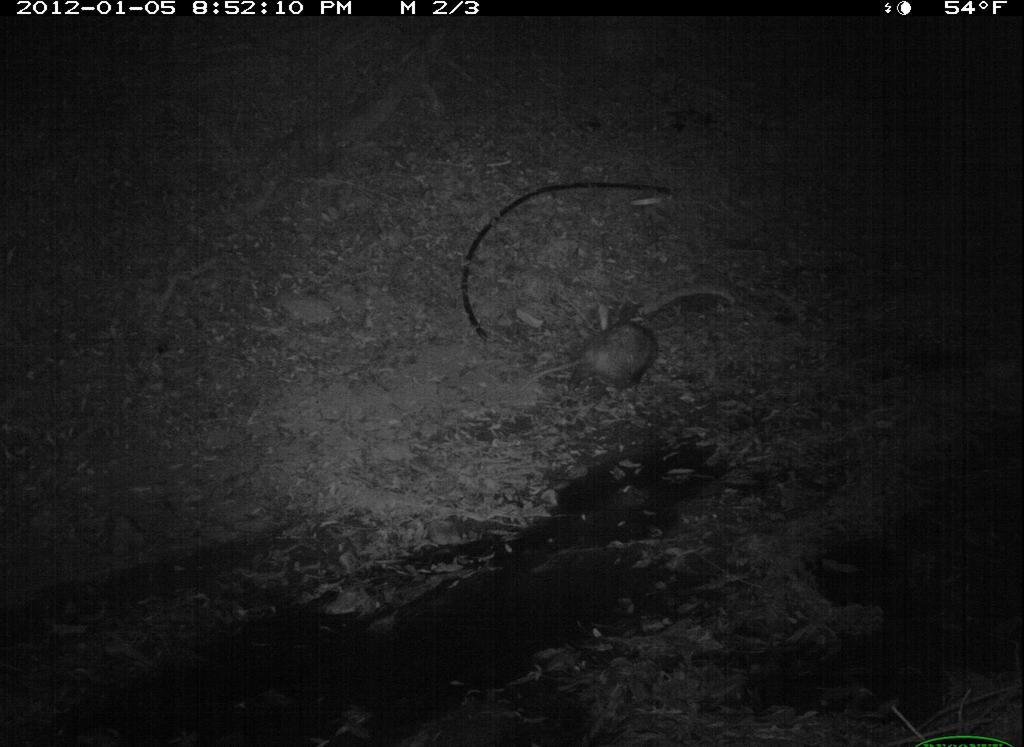opossum: (509, 318, 662, 405)
